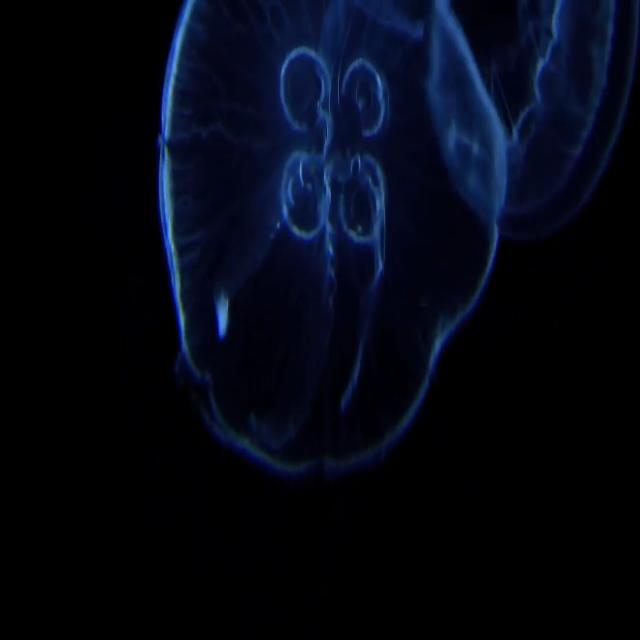Moon-jellyfish: (160, 0, 637, 475)
